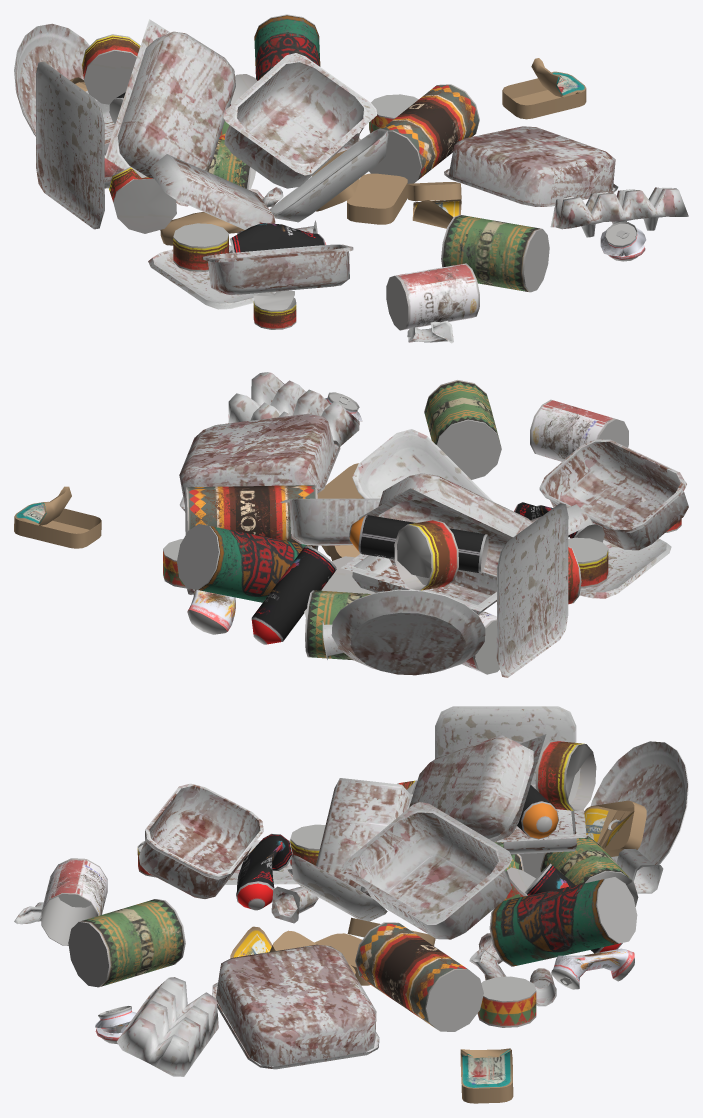
File: SM_TrashSet_02_C.fbx
The picture shows the model from 3 angles, top to bottom: view 1: azimuth 30°, elevation 25°; view 2: azimuth 150°, elevation 25°; view 3: azimuth 270°, elevation 25°; orthographic projection. The views are drawn at different scales.
Visible parts, largest first — view 1: SM_TrashSet_02_C; view 2: SM_TrashSet_02_C; view 3: SM_TrashSet_02_C.
Part boxes in pixels (<box>): SM_TrashSet_02_C: <box>14,14,688,343</box>; SM_TrashSet_02_C: <box>14,372,688,677</box>; SM_TrashSet_02_C: <box>14,706,688,1103</box>.
Size of the model in its own units: 98.72 by 109 by 29.24.
Materials: 2 (2 with a texture image).
